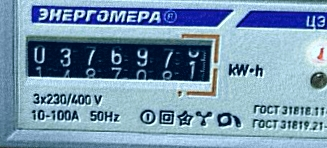0: (32, 43, 48, 64)
1: (187, 59, 199, 80)
3: (59, 45, 73, 68)
6: (111, 44, 124, 65)
7: (85, 42, 98, 67), (162, 45, 175, 69)
9: (136, 45, 149, 67)
screen: (19, 29, 223, 99)
